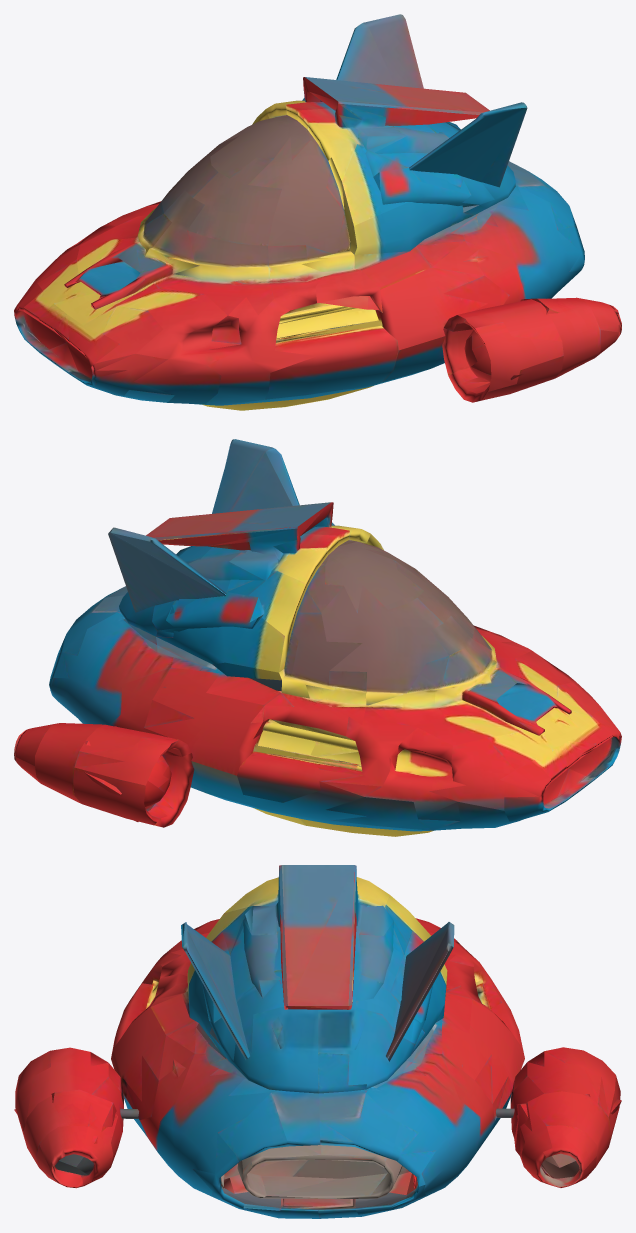
Rendered from Meshy_AI_Rainbow_Rocket_Racer_0818052725_texture.glb.
3 renders of one model, top to bottom at view 1: azimuth 30°, elevation 25°; view 2: azimuth 150°, elevation 25°; view 3: azimuth 270°, elevation 25°, orthographic. The views are drawn at different scales.
Parts seen in each view (by area): view 1: mesh_node; view 2: mesh_node; view 3: mesh_node.
Boxes of the visible parts, box(x1,y1,x2,y2) form: mesh_node: box(14, 14, 621, 410); mesh_node: box(14, 439, 621, 836); mesh_node: box(14, 865, 621, 1218).
Size of the model in its own units: 1 by 0.5488 by 0.9922.
Materials: 1 (1 with a texture image).
